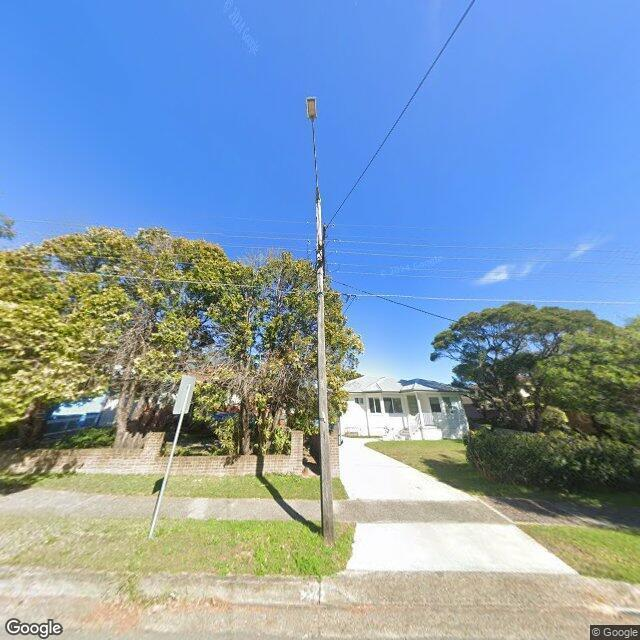streetlight: (306, 98, 318, 204)
timber-pole: (315, 197, 334, 542)
